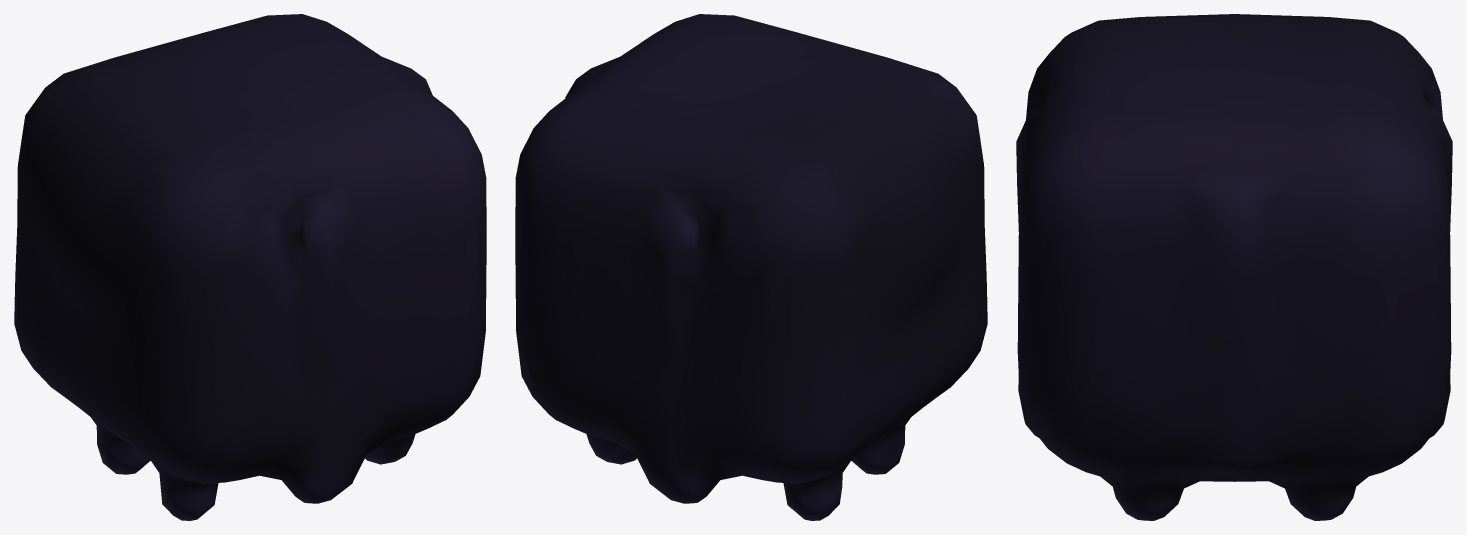
Rendered from leg_low.glb.
3 views of the same model, side by side, from view 1: azimuth 30°, elevation 25°; view 2: azimuth 150°, elevation 25°; view 3: azimuth 270°, elevation 25° (orthographic). The views are drawn at different scales.
Visible parts, largest first — view 1: Goo; view 2: Goo; view 3: Goo.
Part boxes in pixels (box(x1,y1,x2,y2)): Goo: box(14, 14, 486, 520); Goo: box(515, 14, 987, 520); Goo: box(1016, 14, 1452, 520).
Size of the model in its own units: 0.4717 by 0.4859 by 0.4555.
